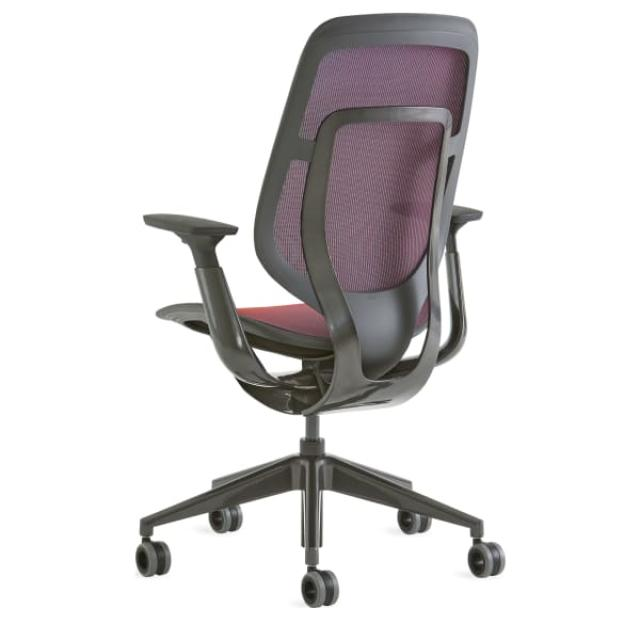chair: (66, 0, 612, 613)
